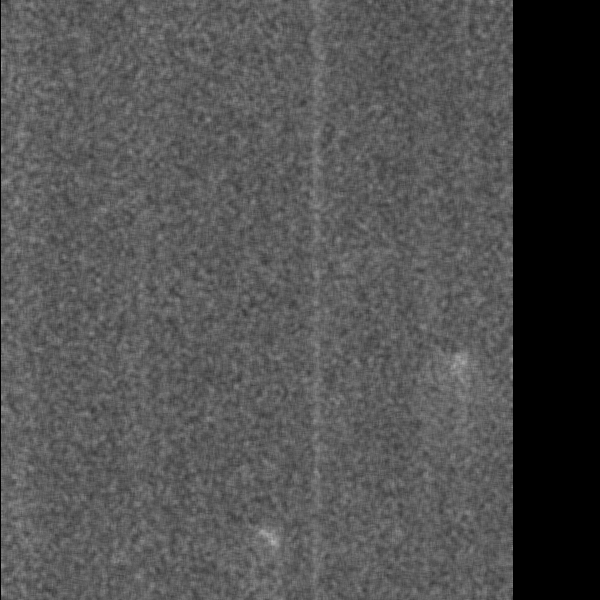spark: (446, 348, 479, 378)
